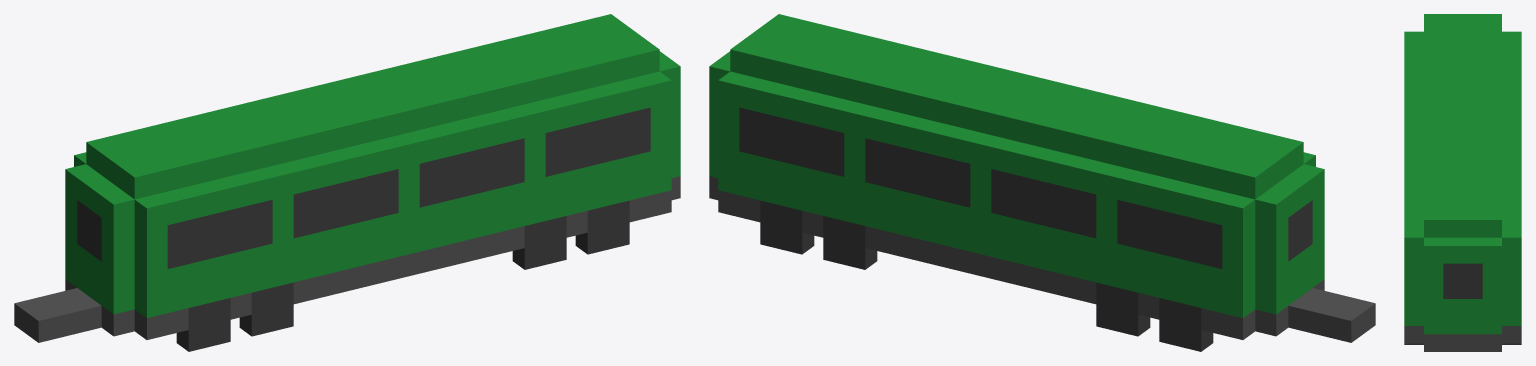
File: train-trailer-v4-green.gltf
The picture shows the model from 3 angles, left to right: view 1: azimuth 30°, elevation 25°; view 2: azimuth 150°, elevation 25°; view 3: azimuth 270°, elevation 25°; orthographic projection. The views are drawn at different scales.
Visible parts, largest first — view 1: model, wheels; view 2: model, wheels; view 3: model.
Boxes of the visible parts, x1=… form: model: x1=14, y1=14, x2=680, y2=342; wheels: x1=176, y1=200, x2=629, y2=351; model: x1=709, y1=14, x2=1375, y2=342; wheels: x1=760, y1=200, x2=1213, y2=351; model: x1=1404, y1=14, x2=1521, y2=351.
Bounding box in the file's own units: 3 × 0.8 × 0.6.
2 materials, 2 textured.
